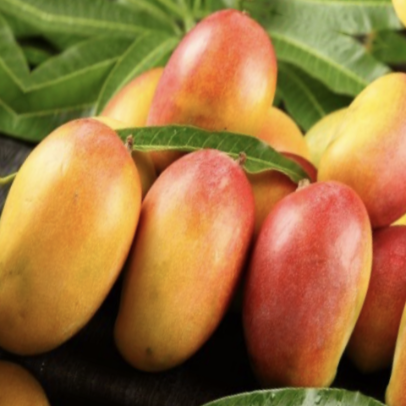mango: (203, 139, 406, 406), (0, 81, 175, 372), (91, 137, 284, 397), (124, 0, 311, 199)
